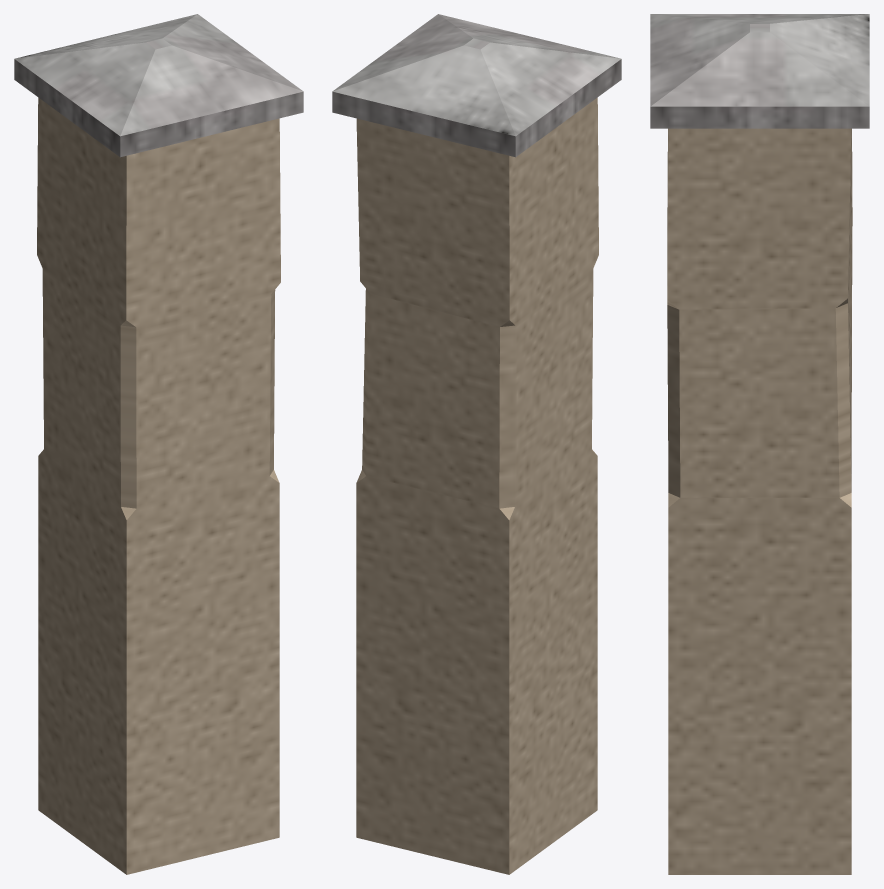
File: plaster_wall_column_fancy.fbx
3 views of the same model, side by side, from view 1: azimuth 30°, elevation 25°; view 2: azimuth 150°, elevation 25°; view 3: azimuth 270°, elevation 25° (orthographic). The views are drawn at different scales.
Visible parts, largest first — view 1: plaster_wall_column_fancy; view 2: plaster_wall_column_fancy; view 3: plaster_wall_column_fancy.
Part boxes in pixels (left/top/right/bottom): plaster_wall_column_fancy: left=14, top=14, right=303, bottom=874; plaster_wall_column_fancy: left=332, top=14, right=621, bottom=874; plaster_wall_column_fancy: left=650, top=14, right=869, bottom=874.
Bounding box in the file's own units: 52.79 × 214 × 52.79.
Materials: 2 (2 with a texture image).
